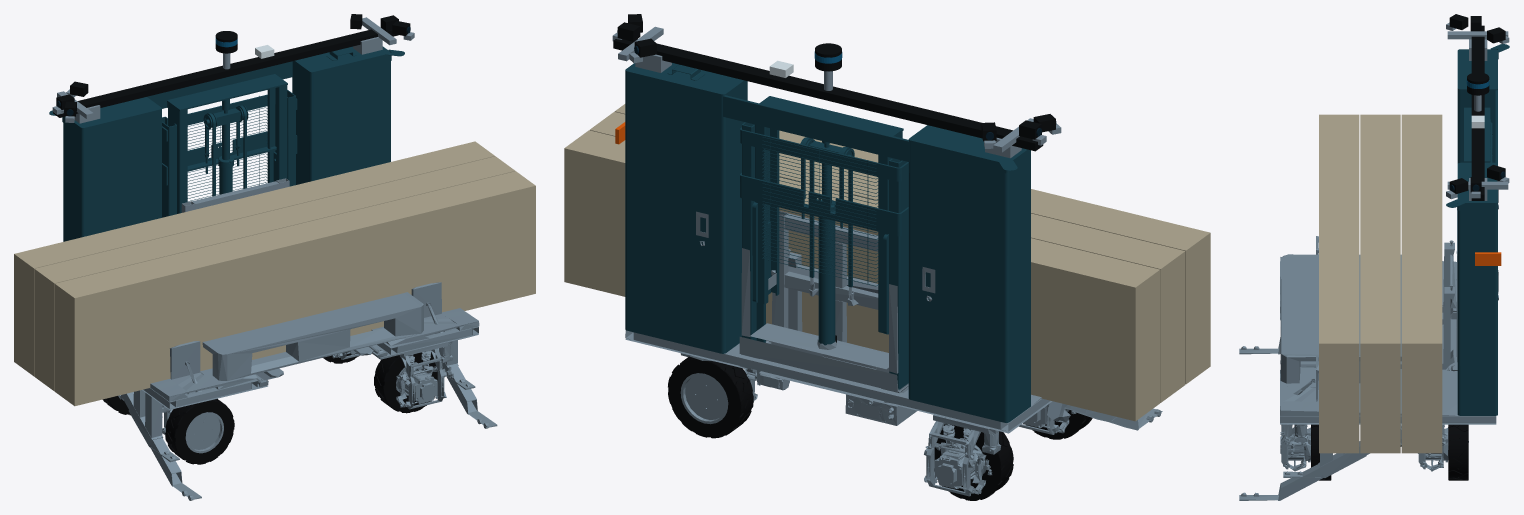
The model's file is 4WS_vehicle.dae.
3 views of the same model, side by side, from view 1: azimuth 30°, elevation 25°; view 2: azimuth 150°, elevation 25°; view 3: azimuth 270°, elevation 25° (orthographic). The views are drawn at different scales.
Parts seen in each view (by area): view 1: node; view 2: node; view 3: node.
Boxes of the visible parts, left/top/right/bottom form: node: left=14, top=14, right=535, bottom=500; node: left=564, top=14, right=1210, bottom=500; node: left=1239, top=14, right=1509, bottom=500.
Bounding box in the file's own units: 2.68 × 1.34 × 1.91.
